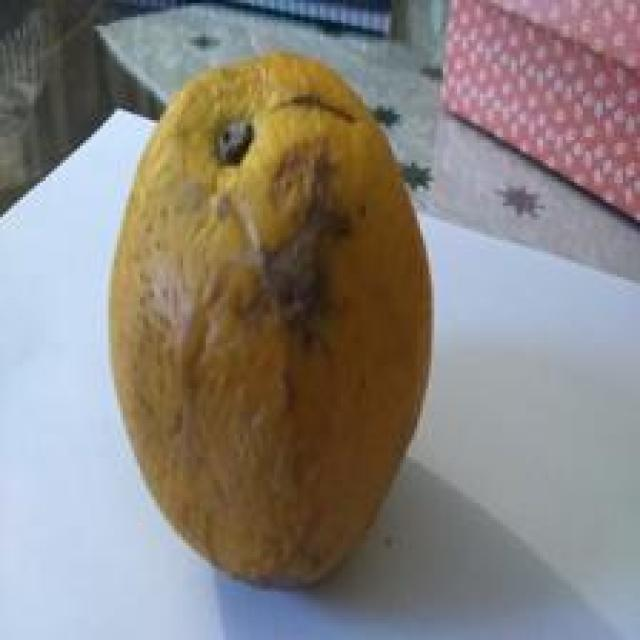overripe: (102, 48, 439, 598)
